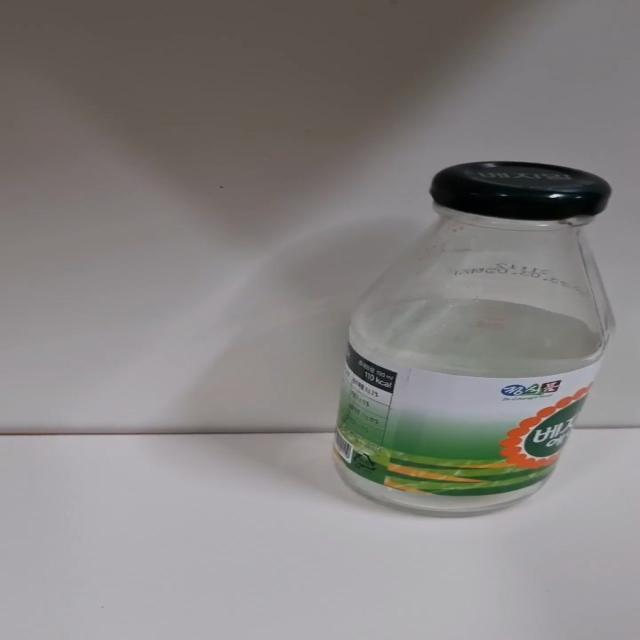Glass: (331, 160, 617, 520)
